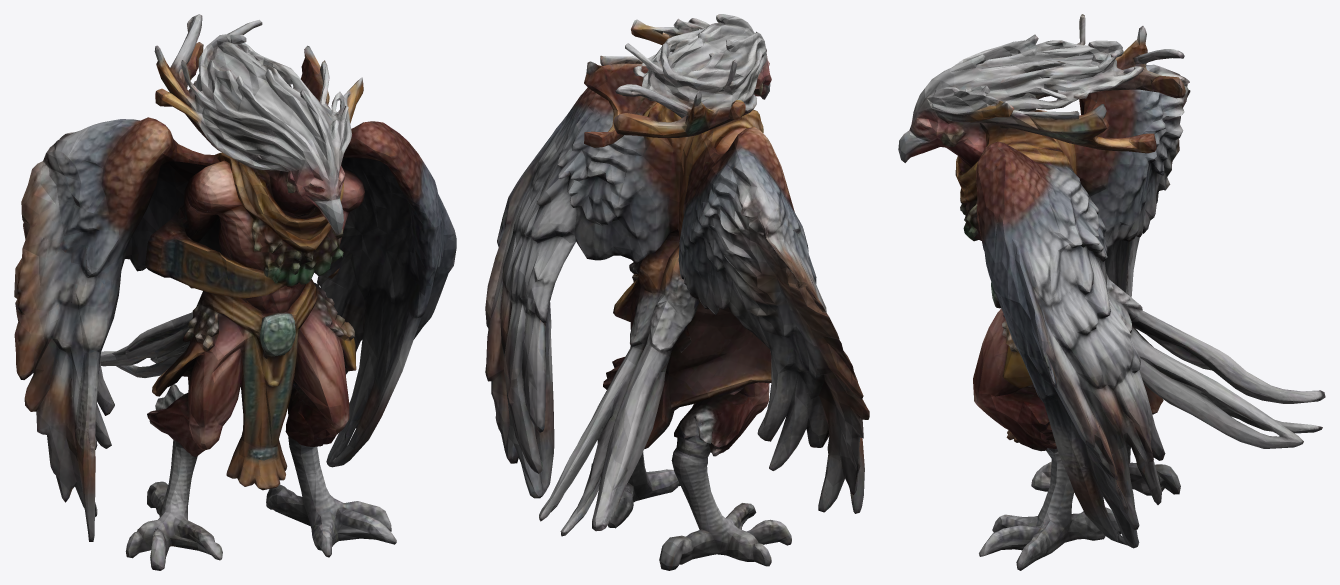
File: galeHarpy.glb
3 views of the same model, side by side, from view 1: azimuth 30°, elevation 25°; view 2: azimuth 150°, elevation 25°; view 3: azimuth 270°, elevation 25° (orthographic). The views are drawn at different scales.
Visible parts, largest first — view 1: world; view 2: world; view 3: world.
Part boxes in pixels (x1,y1,x2,y2): world: [14, 14, 456, 570]; world: [485, 14, 869, 570]; world: [898, 14, 1325, 570].
Bounding box in the file's own units: 0.8449 × 0.9998 × 0.8023.
Materials: 1 (1 with a texture image).
